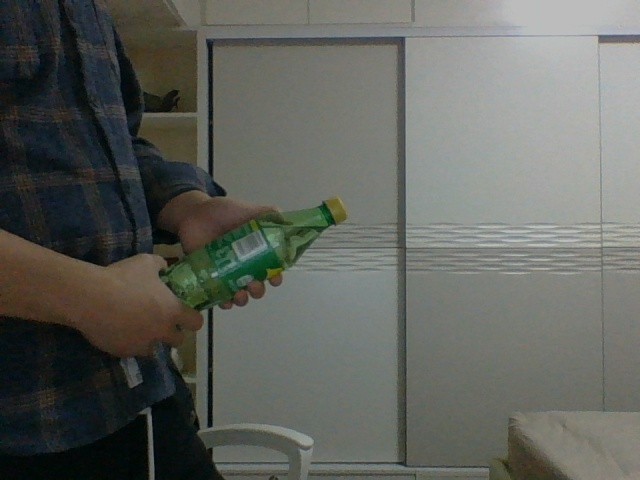Sprite: (162, 196, 349, 307)
